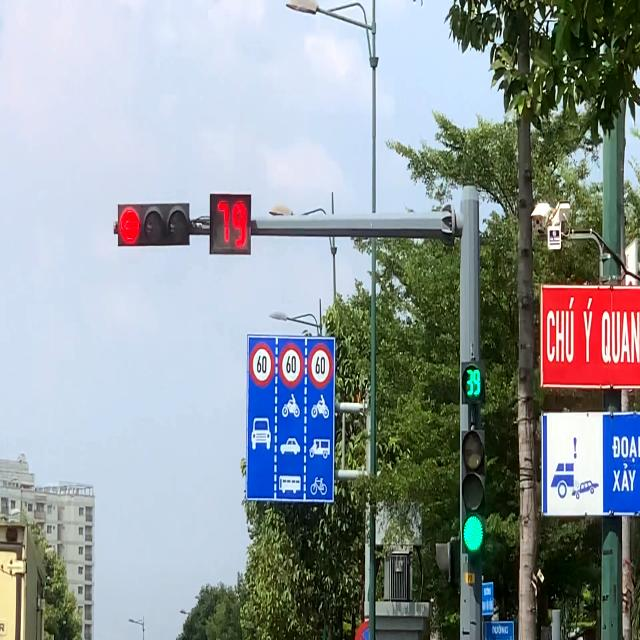P.127: (249, 342, 275, 387), (308, 342, 333, 388), (279, 343, 304, 387)
